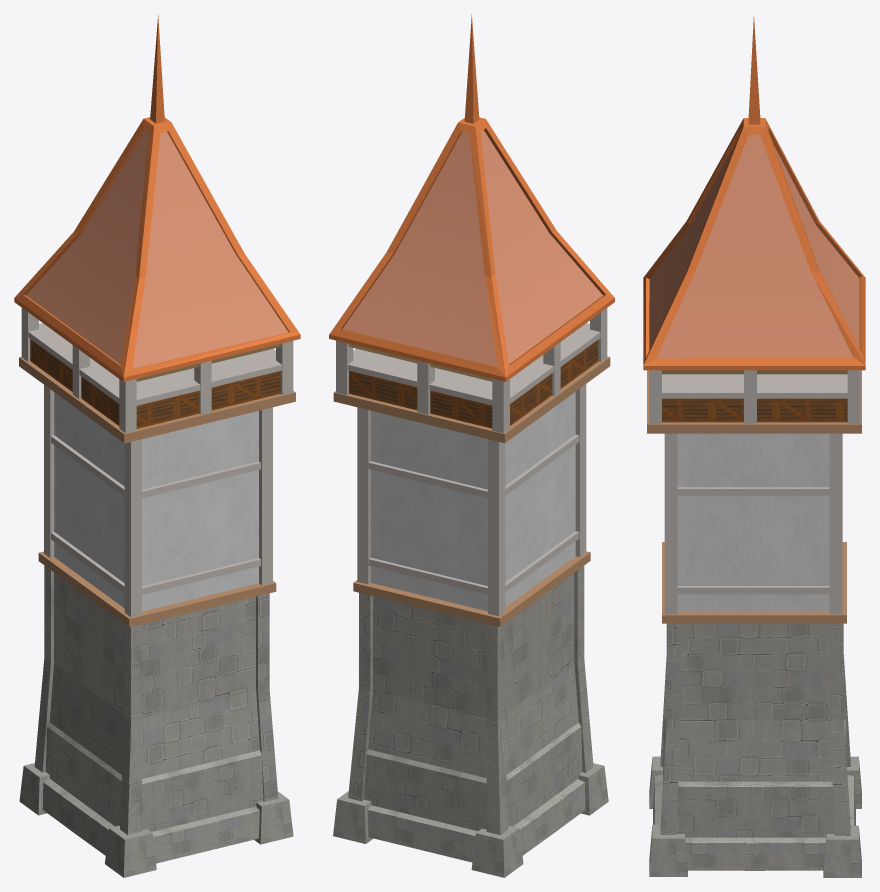
Rendered from Building_B_03.fbx.
3 renders of one model, left to right at view 1: azimuth 30°, elevation 25°; view 2: azimuth 150°, elevation 25°; view 3: azimuth 270°, elevation 25°, orthographic. The views are drawn at different scales.
Parts seen in each view (by area): view 1: Building_B_03; view 2: Building_B_03; view 3: Building_B_03.
Boxes of the visible parts, x1,y1,x2,y2 form: Building_B_03: (14, 15, 300, 877); Building_B_03: (329, 14, 614, 877); Building_B_03: (643, 16, 865, 877).
Bounding box in the file's own units: 767 × 3338 × 820.
